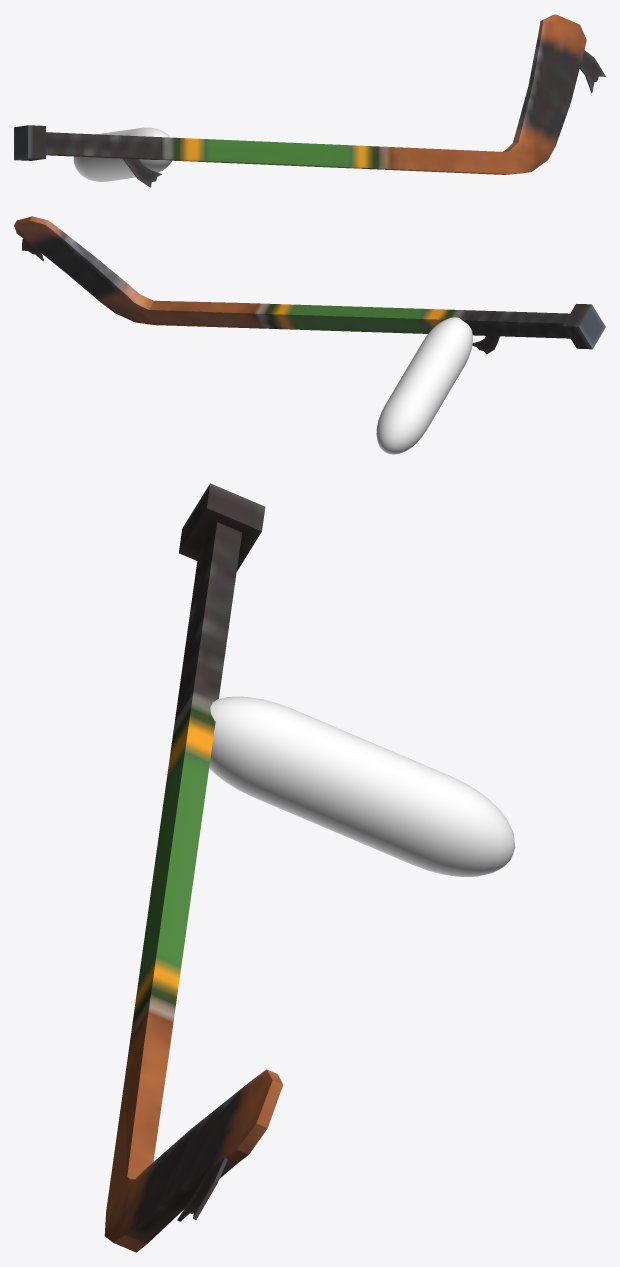
Rendered from HockeyStickBAnchor.fbx.
3 renders of one model, top to bottom at view 1: azimuth 30°, elevation 25°; view 2: azimuth 150°, elevation 25°; view 3: azimuth 270°, elevation 25°, orthographic. The views are drawn at different scales.
Parts seen in each view (by area): view 1: LMADK_, HockeyStickB_InteractionPoint; view 2: LMADK_, HockeyStickB_InteractionPoint; view 3: LMADK_, HockeyStickB_InteractionPoint.
Boxes of the visible parts, x1,y1,x2,y2 form: LMADK_: [14, 14, 605, 187]; HockeyStickB_InteractionPoint: [73, 127, 171, 181]; LMADK_: [14, 216, 605, 354]; HockeyStickB_InteractionPoint: [376, 317, 472, 454]; LMADK_: [104, 483, 282, 1252]; HockeyStickB_InteractionPoint: [209, 696, 515, 876].
Bounding box in the file's own units: 104 × 25.48 × 31.78.
